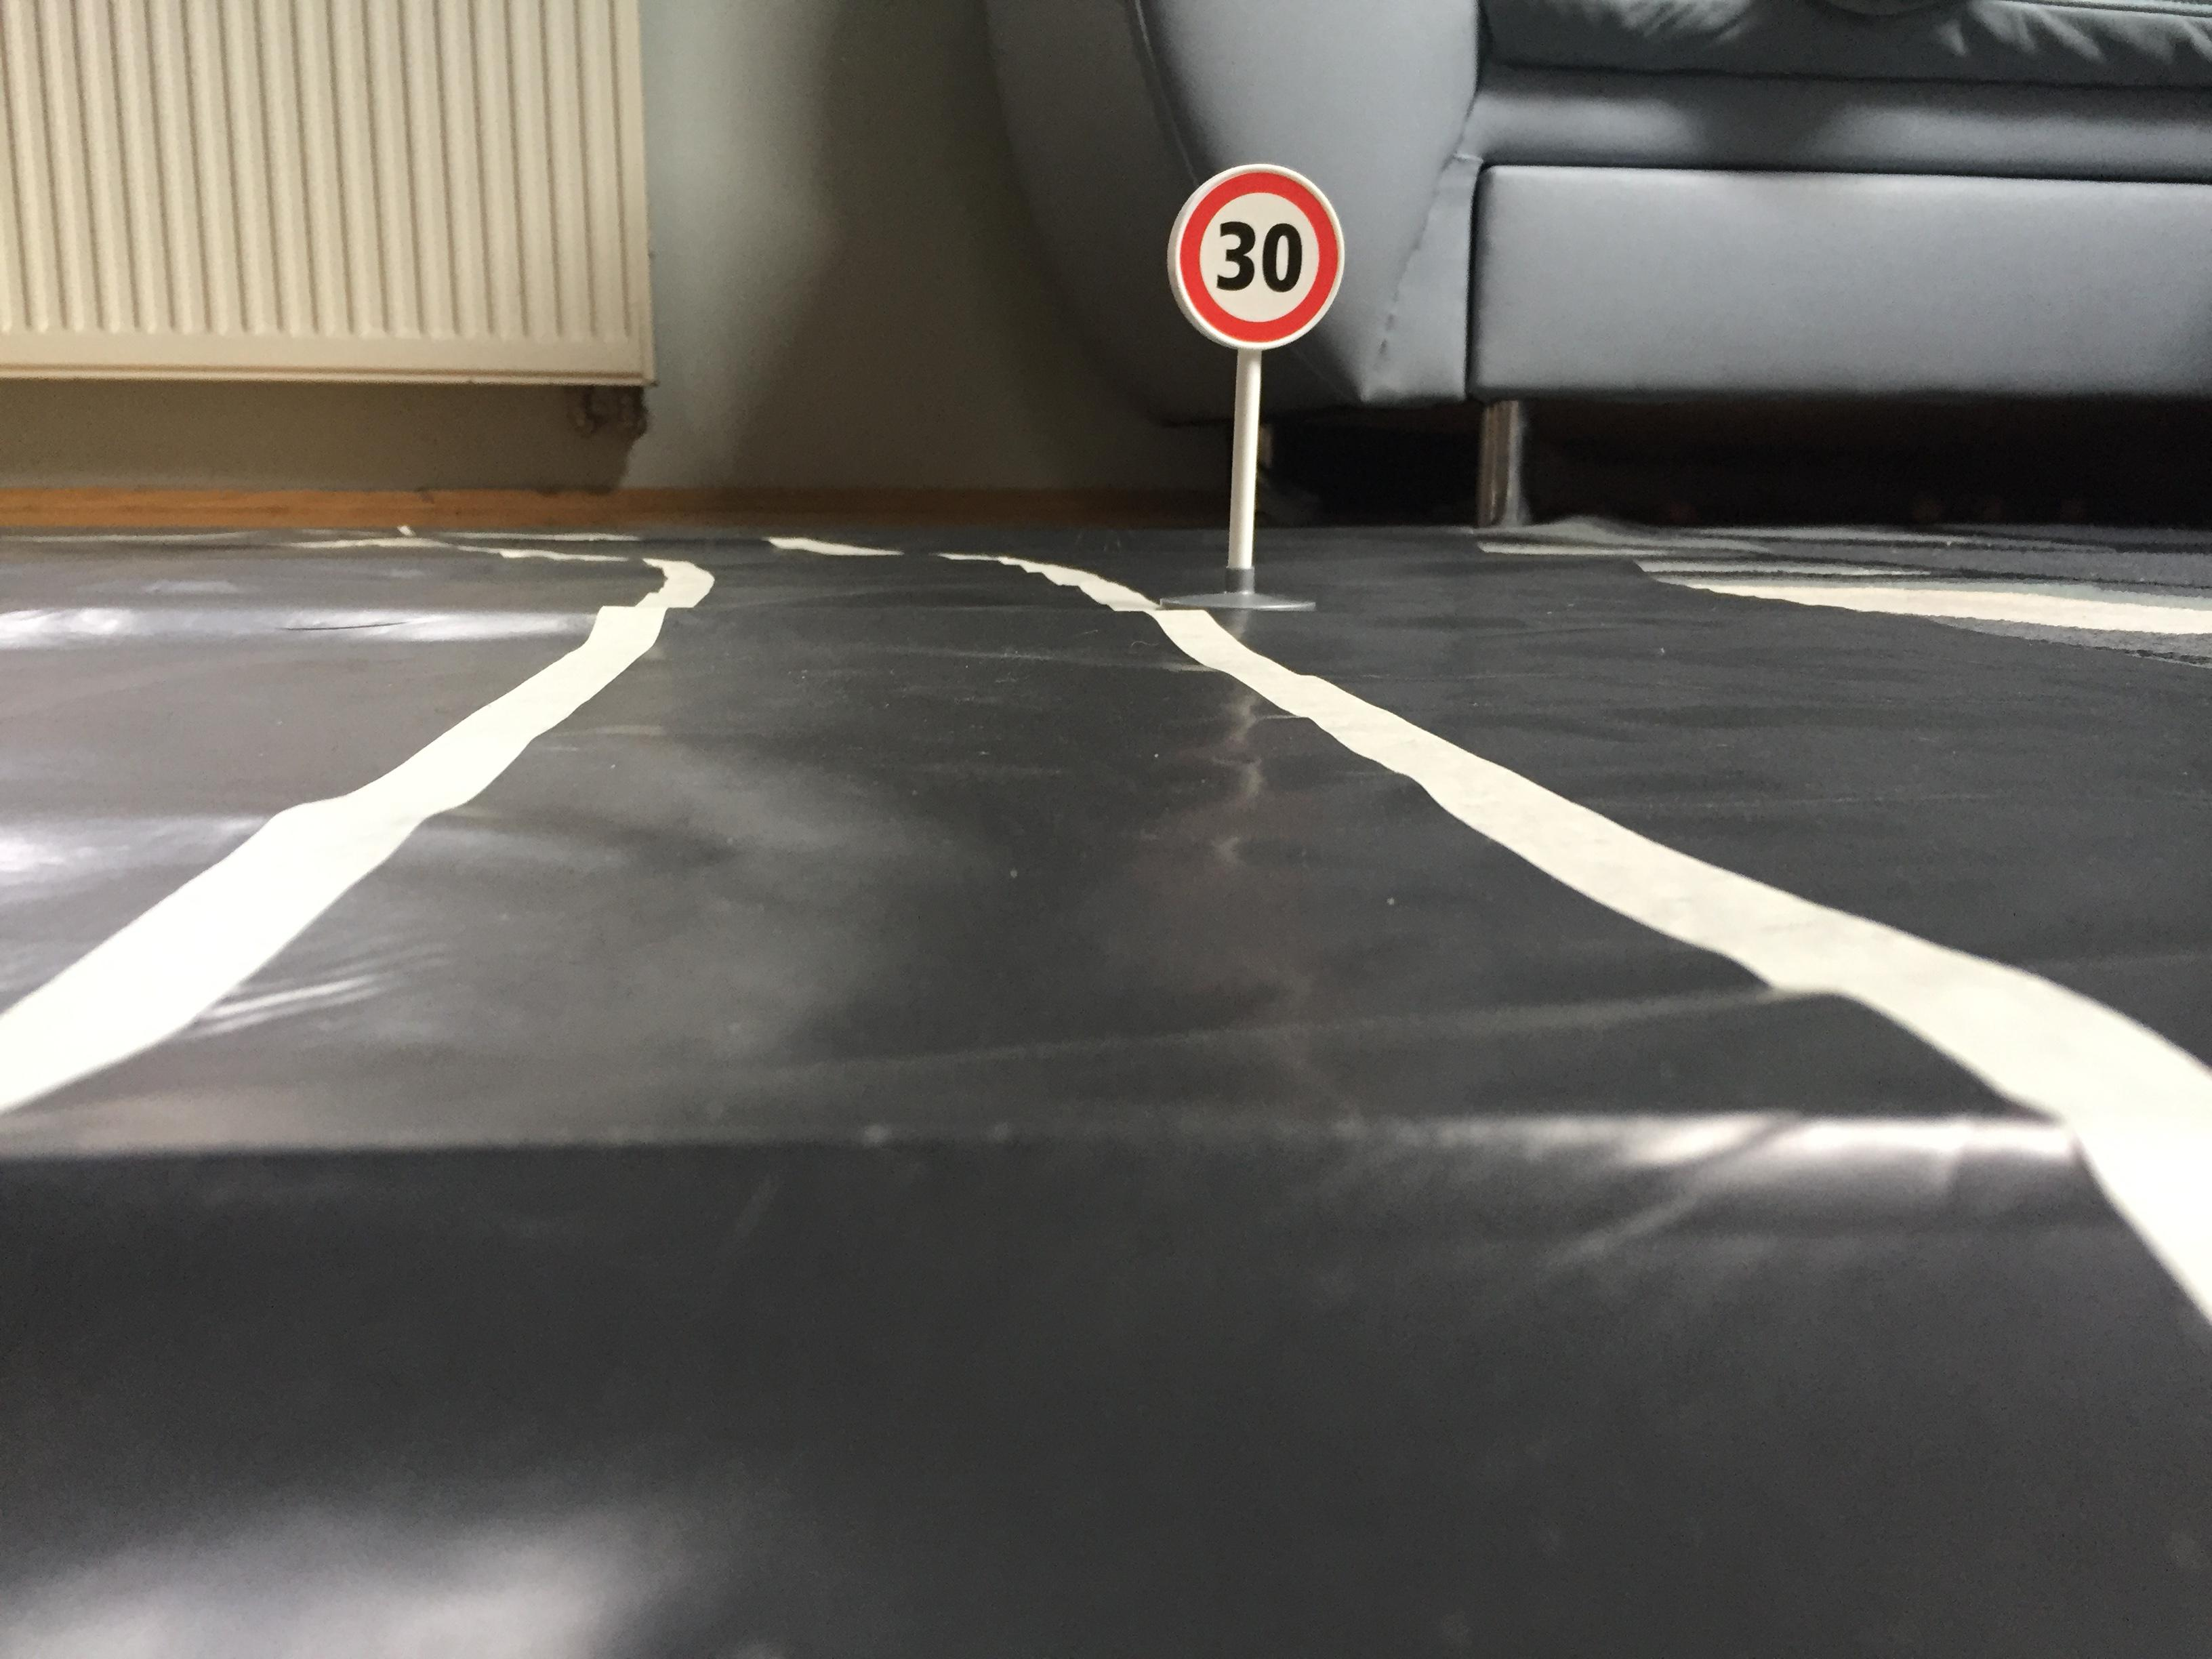speed: (1153, 157, 1362, 362)
